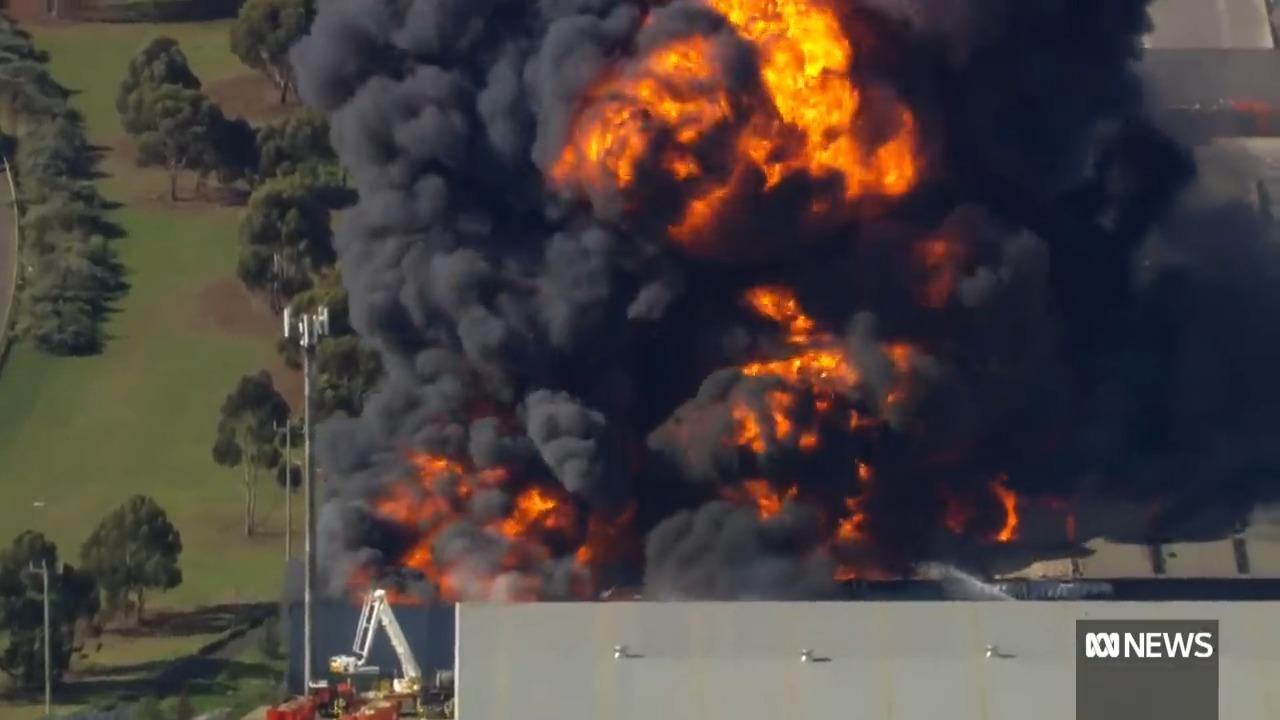fire: (547, 1, 911, 212), (716, 276, 916, 545), (372, 446, 638, 597), (993, 481, 1020, 544)
